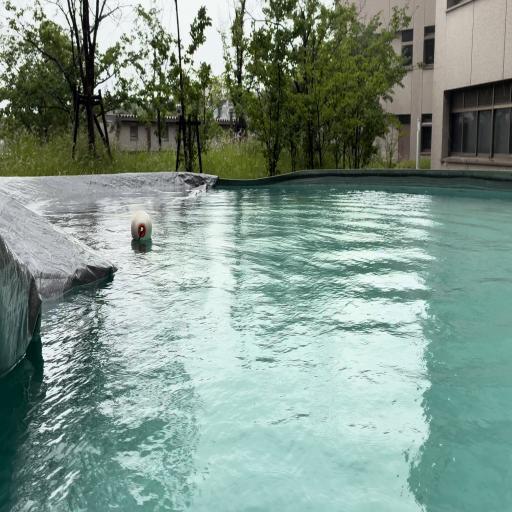white buoy: (131, 210, 152, 241)
